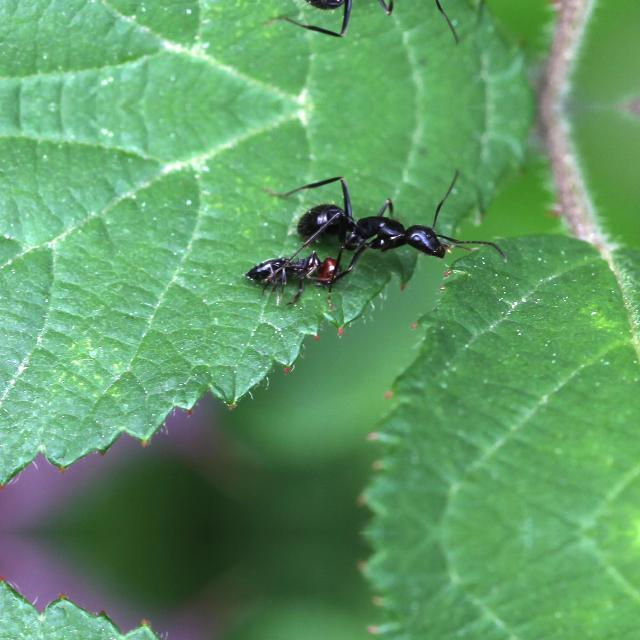Camponotus: (294, 188, 462, 260), (294, 0, 461, 24)
Crematogaster: (254, 244, 354, 288)
